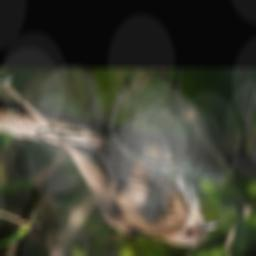Cuckoo: (0, 79, 224, 249)
